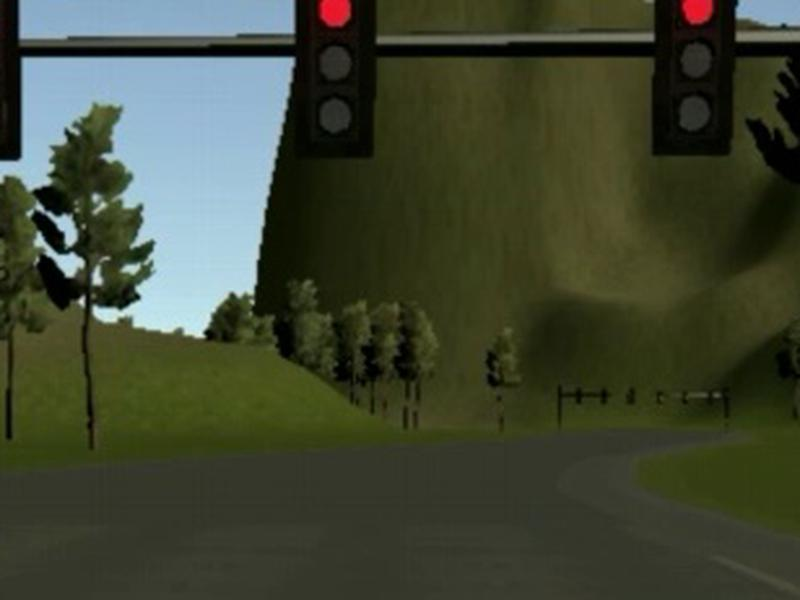Red: (654, 1, 739, 155), (294, 1, 375, 158)
